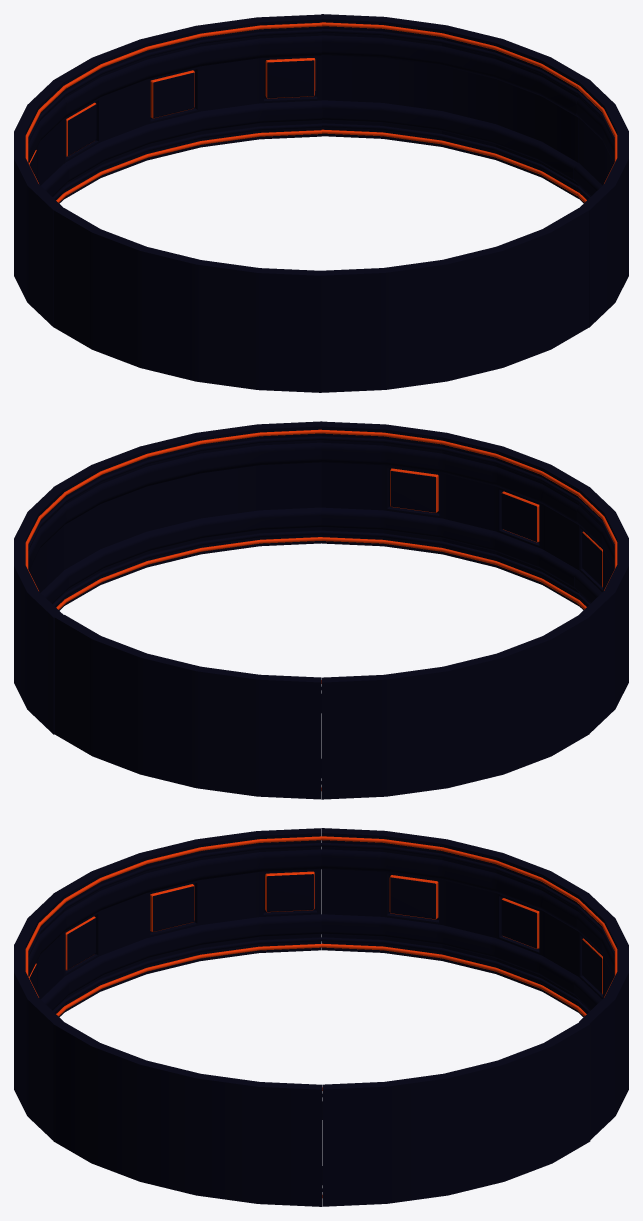
File: Robot_Room.fbx
3 views of the same model, one above another, from view 1: azimuth 30°, elevation 25°; view 2: azimuth 150°, elevation 25°; view 3: azimuth 270°, elevation 25° (orthographic).
Visible parts, largest first — view 1: pPipe5, pPipe9, pPipe11, pPipe3, pPipe12, pPipe10; view 2: pPipe11, pPipe10, pPipe9, pPipe12, pPipe3, pPipe5; view 3: pPipe12, pPipe3, pPipe10, pPipe5, pPipe9, pPipe11.
Boxes of the visible parts, x1=… form: pPipe5: x1=54, y1=208, x2=321, y2=392; pPipe9: x1=321, y1=208, x2=588, y2=392; pPipe11: x1=54, y1=14, x2=322, y2=199; pPipe3: x1=321, y1=14, x2=588, y2=198; pPipe12: x1=574, y1=79, x2=628, y2=327; pPipe10: x1=14, y1=80, x2=68, y2=327; pPipe11: x1=54, y1=615, x2=321, y2=799; pPipe10: x1=322, y1=615, x2=589, y2=799; pPipe9: x1=321, y1=421, x2=588, y2=605; pPipe12: x1=53, y1=421, x2=322, y2=605; pPipe3: x1=14, y1=487, x2=69, y2=734; pPipe5: x1=574, y1=487, x2=628, y2=733; pPipe12: x1=53, y1=1021, x2=322, y2=1206; pPipe3: x1=322, y1=1022, x2=590, y2=1206; pPipe10: x1=321, y1=828, x2=588, y2=1012; pPipe5: x1=53, y1=828, x2=321, y2=1012; pPipe9: x1=14, y1=893, x2=69, y2=1140; pPipe11: x1=573, y1=893, x2=628, y2=1139.
Bounding box in the file's own units: 56 × 11.69 × 55.6.
